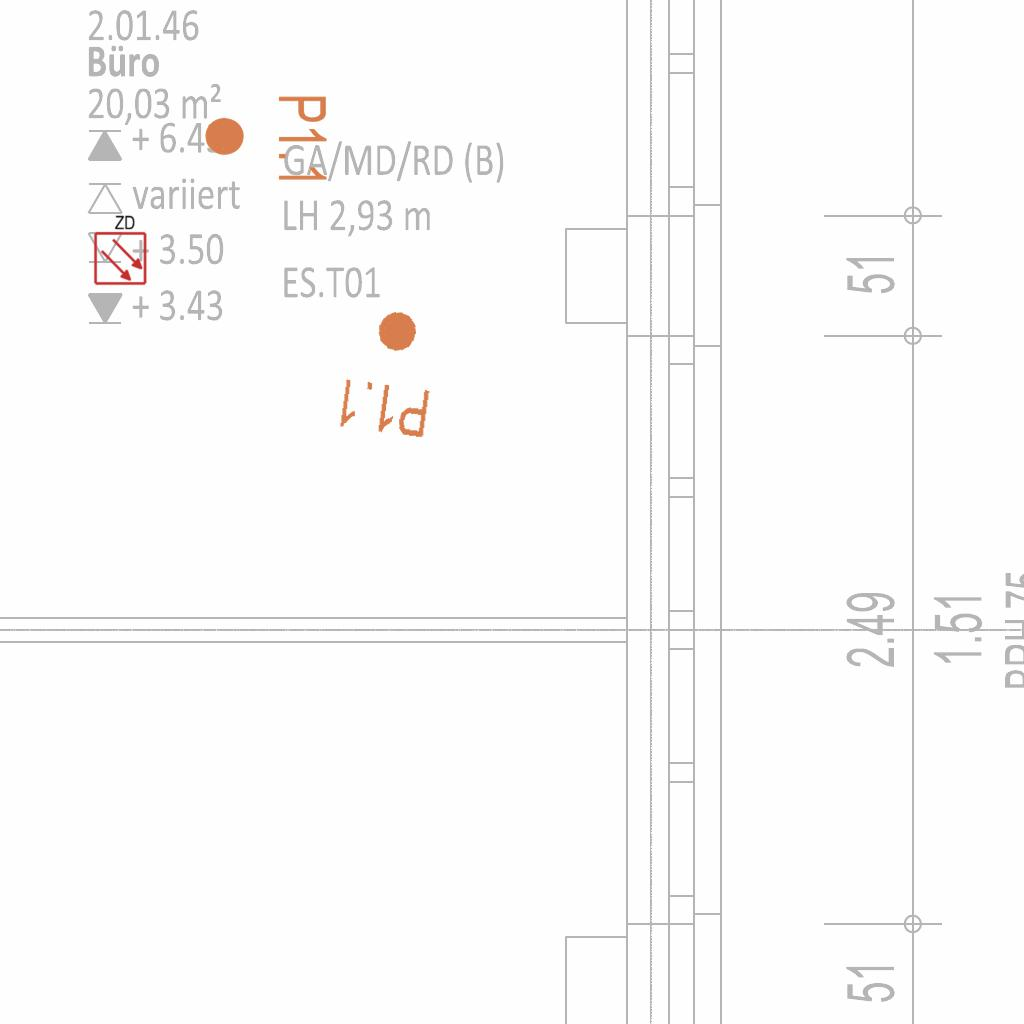Downlight_LED_Einbauleuchten_Flur: (333, 302, 444, 442), (202, 93, 330, 186)
ZD_Melder_in_Zwischendecke_mit_Revisionsoeffnung_mind_40_x_40_cm: (91, 212, 148, 286)
